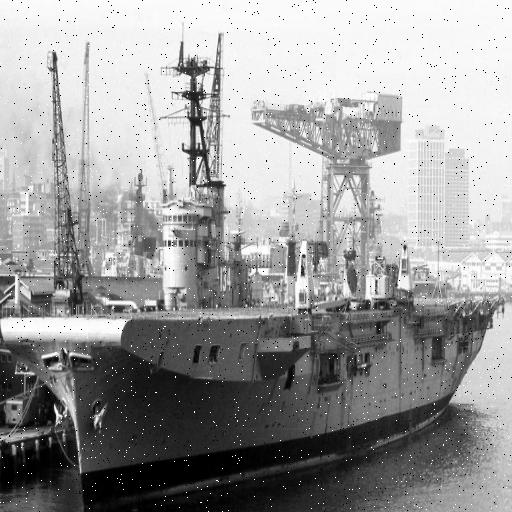Portanaves: (1, 155, 504, 512)
